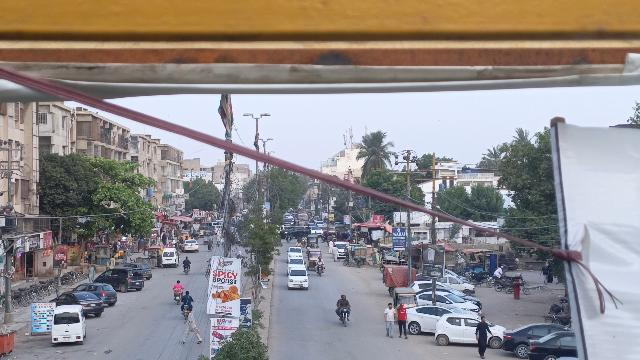Bike: (338, 306, 351, 327), (179, 305, 192, 321), (181, 265, 192, 278), (315, 264, 325, 276), (173, 292, 183, 304)
Car: (433, 310, 504, 350), (500, 319, 570, 354), (527, 329, 582, 360), (406, 300, 450, 337), (96, 265, 147, 293), (49, 291, 106, 316), (75, 278, 118, 306), (126, 260, 155, 281), (288, 266, 310, 291), (285, 256, 308, 274), (286, 245, 304, 260)
Person: (178, 305, 206, 349), (472, 315, 494, 360), (382, 300, 397, 337), (395, 301, 410, 337), (180, 289, 194, 308), (85, 263, 98, 281), (337, 294, 351, 310), (173, 279, 184, 293), (315, 255, 325, 267), (182, 255, 191, 268)
Rickshaw: (390, 286, 417, 324), (306, 247, 321, 270)
Van: (51, 304, 87, 346), (160, 247, 180, 269)
